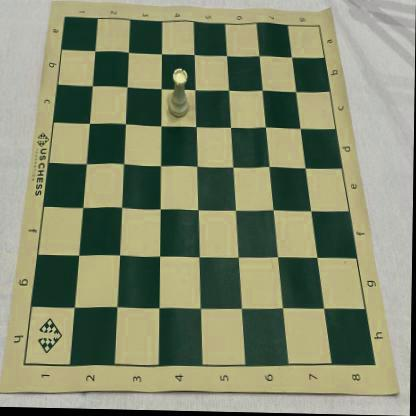white-rook: (168, 69, 191, 120)
